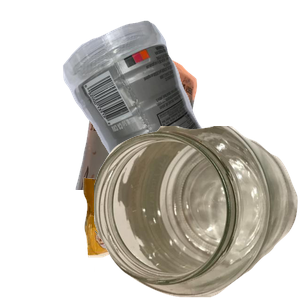glass: (94, 126, 300, 300)
metal: (73, 52, 263, 232)
plastic: (60, 18, 300, 198)
trash: (81, 168, 261, 300)
